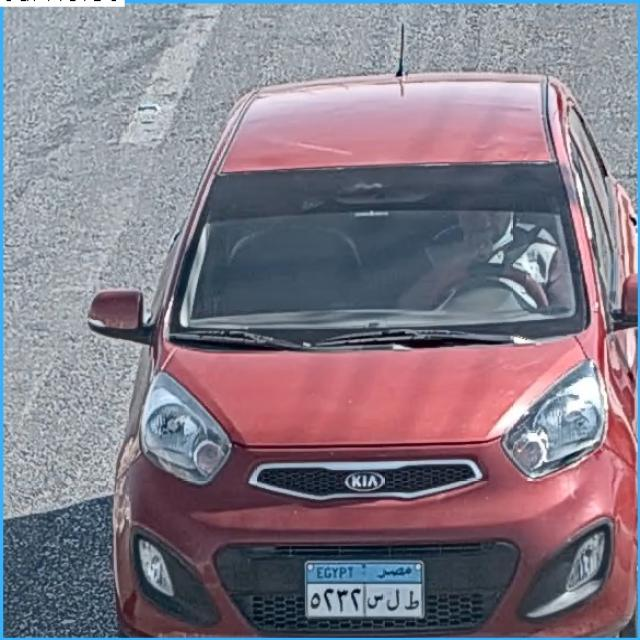windshield: (167, 175, 590, 331)
